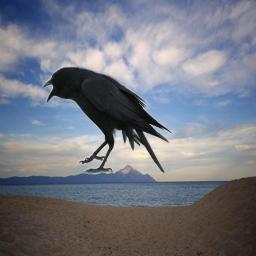Crow: (42, 66, 172, 174)
